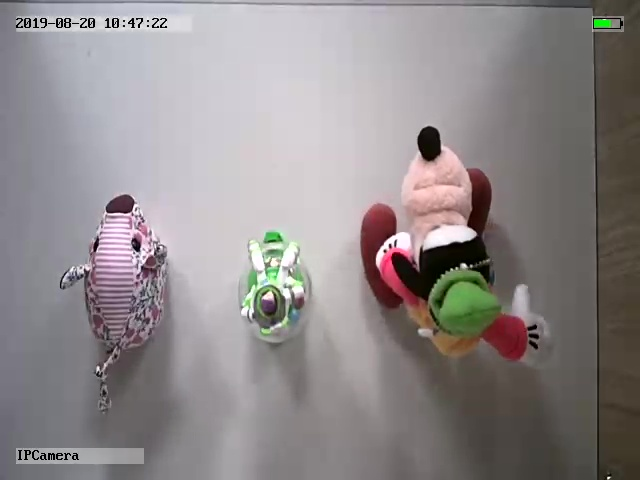buzz: (234, 229, 315, 346)
goofy: (356, 123, 554, 372)
pig: (59, 194, 169, 412)
